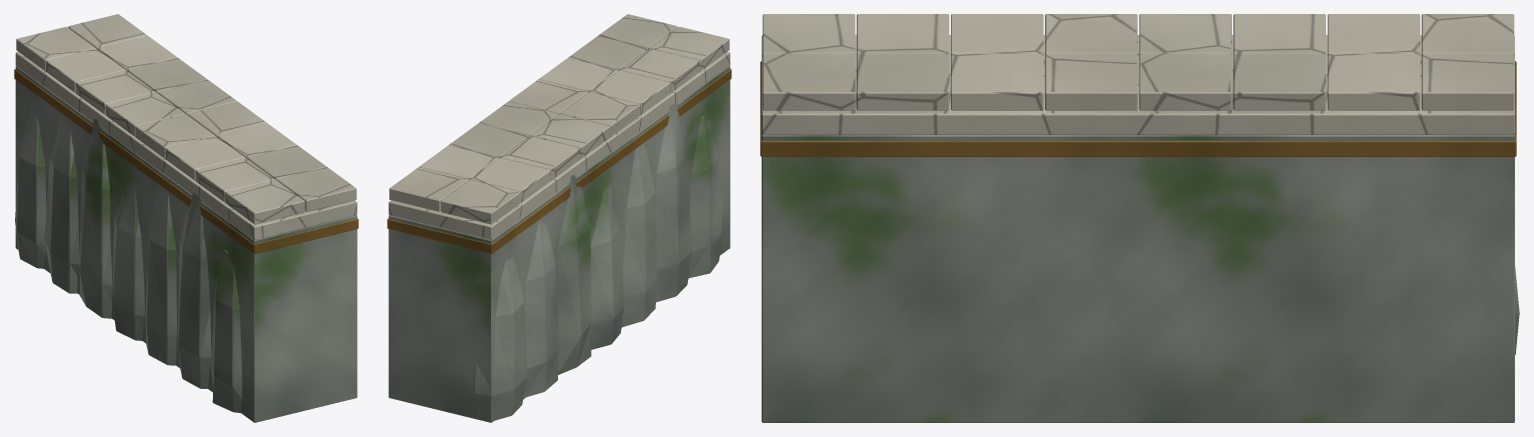
The model's file is t01_shore_straight.fbx.
3 views of the same model, side by side, from view 1: azimuth 30°, elevation 25°; view 2: azimuth 150°, elevation 25°; view 3: azimuth 270°, elevation 25° (orthographic). The views are drawn at different scales.
Parts seen in each view (by area): view 1: t01_shore_straight.004; view 2: t01_shore_straight.004; view 3: t01_shore_straight.004.
Boxes of the visible parts, x1,y1,x2,y2 form: t01_shore_straight.004: (14, 14, 358, 422); t01_shore_straight.004: (387, 14, 731, 422); t01_shore_straight.004: (760, 14, 1519, 422).
Size of the model in its own units: 51607 by 14428 by 24800.
